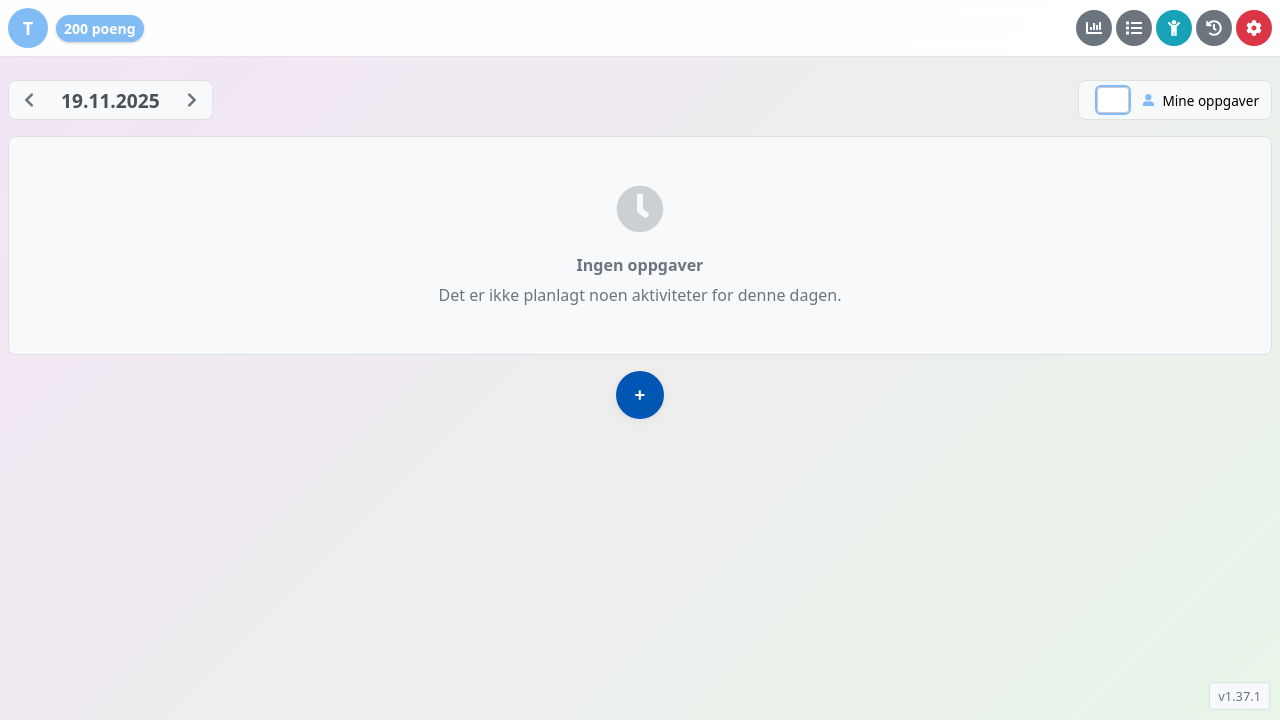
Scenario: Avatar to ProfileSelector Integration › should close ProfileSelector when close button is clicked
# Open ProfileSelector
Click the button titled "Åpne profil og innstillinger" at (28, 28), box [8, 8, 48, 48]
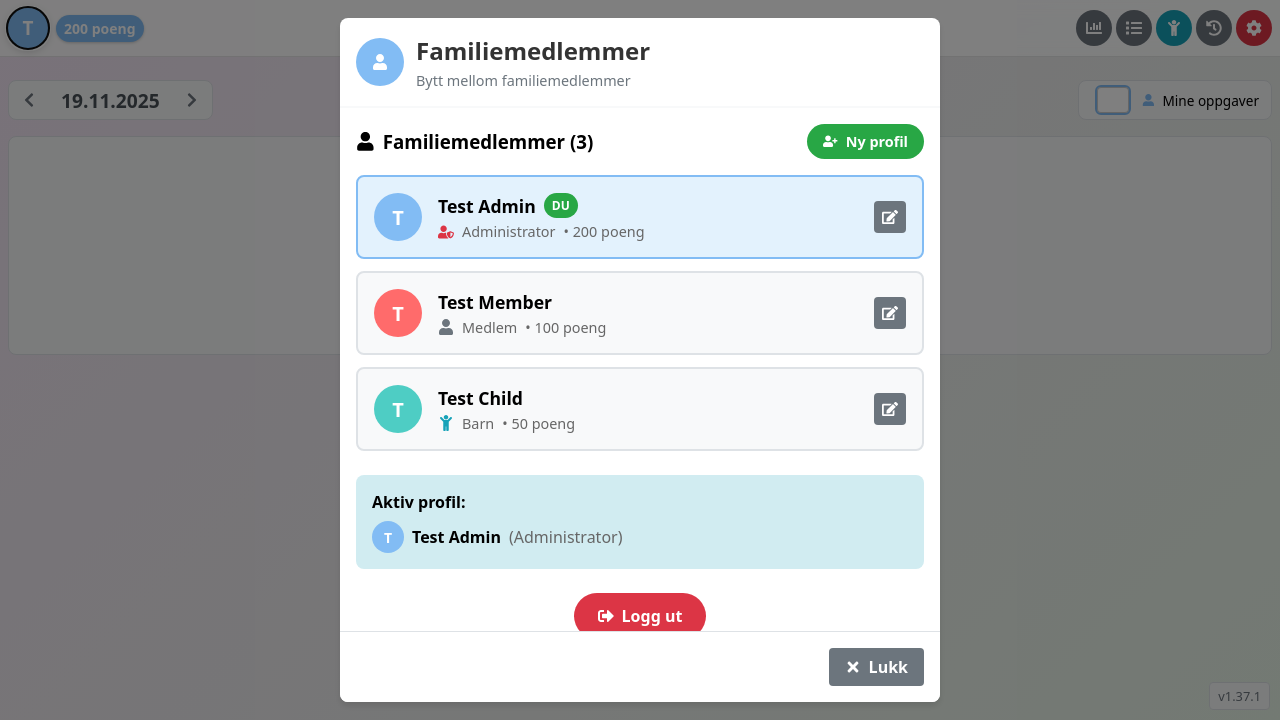
Expected: the heading "Familiemedlemmer (3)" is shown, [356, 129, 593, 154]
# Find and click close button (usually an X or "Lukk" button)
Click the button "Lukk" at (876, 667), box [829, 648, 924, 686]
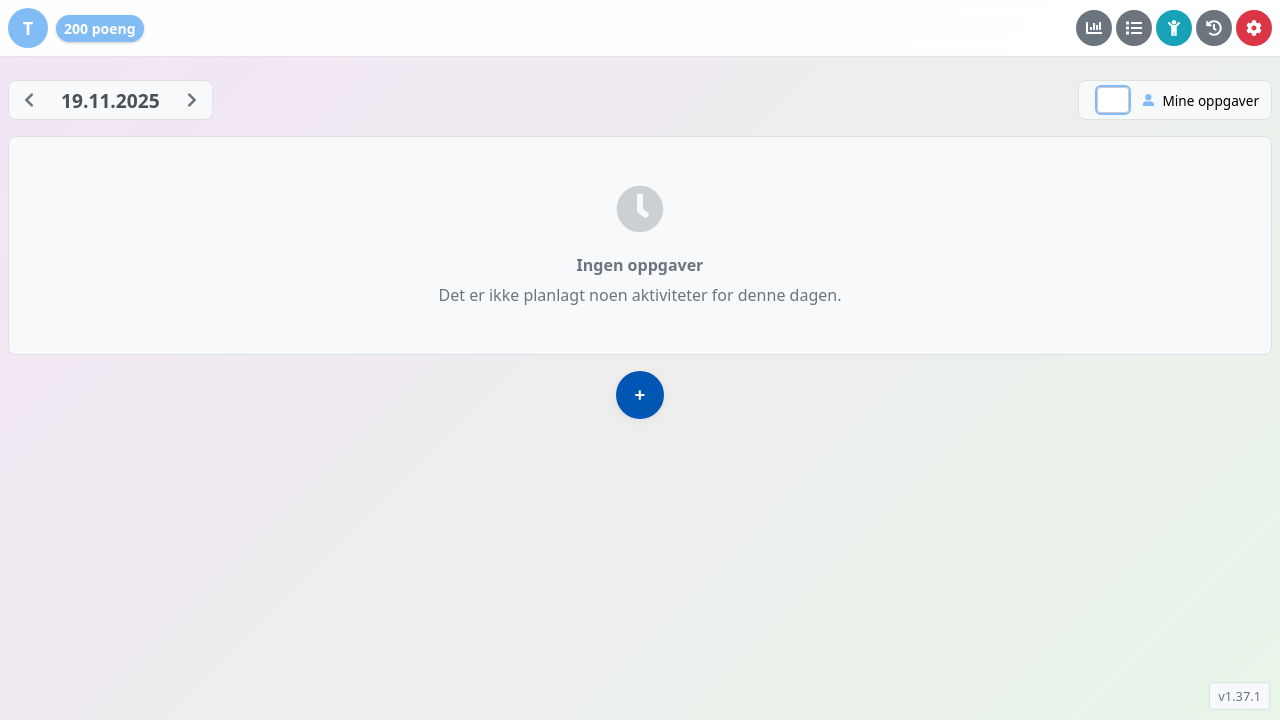
Expected: the heading "Familiemedlemmer (3)" is gone
